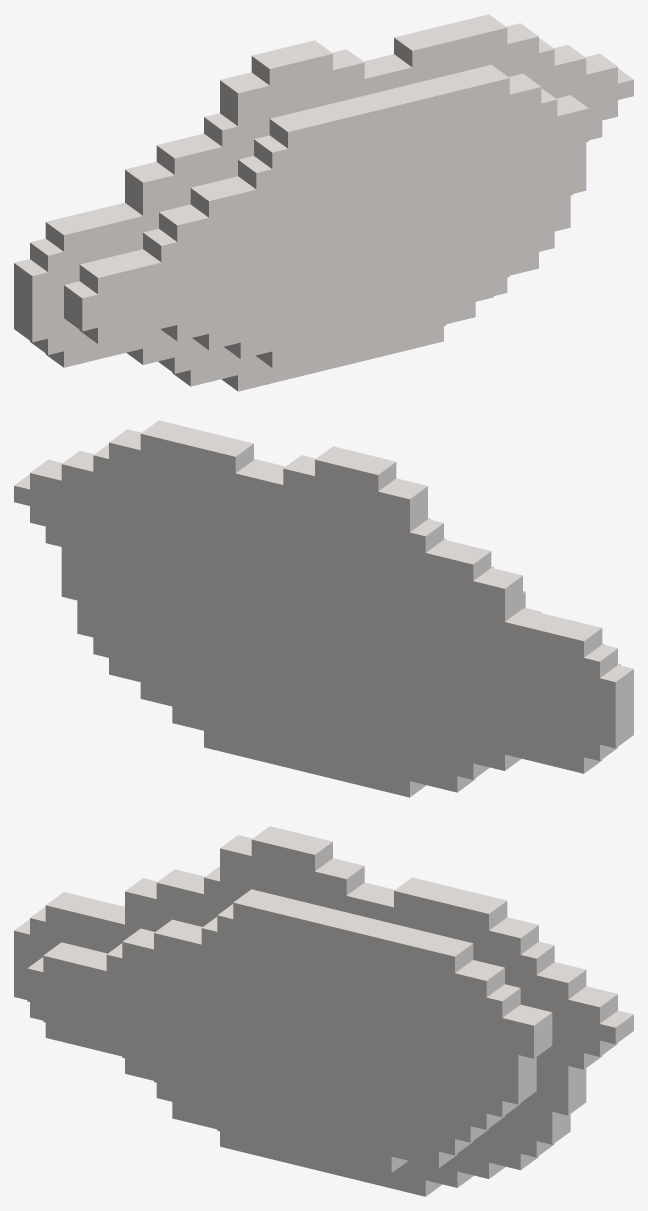
Rendered from cloud-0.glb.
3 views of the same model, one above another, from view 1: azimuth 30°, elevation 25°; view 2: azimuth 150°, elevation 25°; view 3: azimuth 330°, elevation 25° (orthographic).
Visible parts, largest first — view 1: Polygon; view 2: Polygon; view 3: Polygon.
Part boxes in pixels (left/top/right/bottom): Polygon: left=14, top=14, right=633, bottom=391; Polygon: left=14, top=420, right=633, bottom=797; Polygon: left=14, top=826, right=633, bottom=1196.
Size of the model in its own units: 3.8 by 1.9 by 0.4.
Materials: 1 (1 with a texture image).
